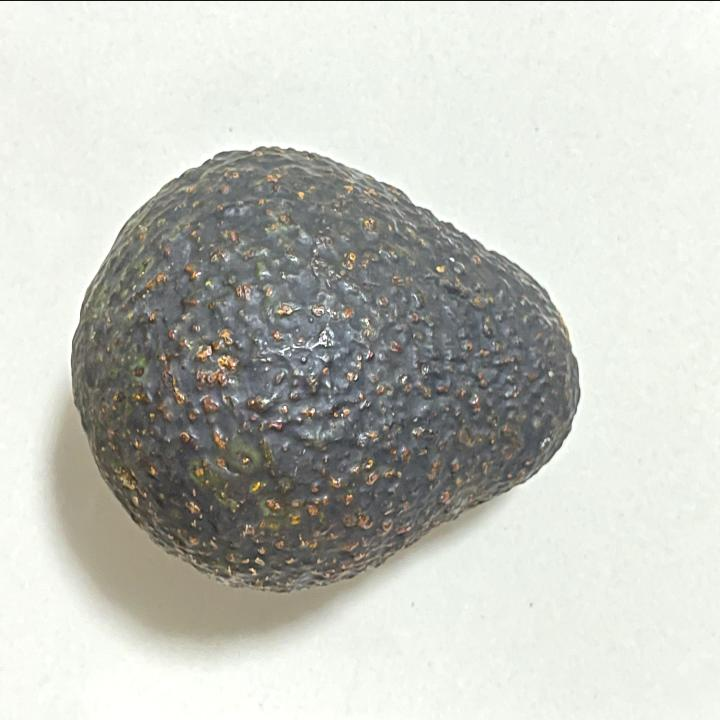Level2: (65, 137, 592, 602)
